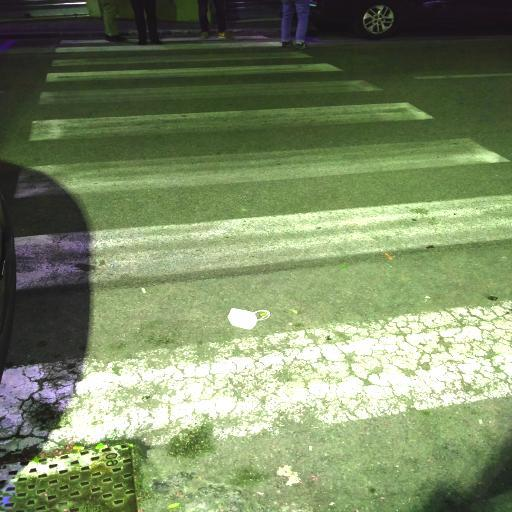crosswalk: (0, 188, 511, 494), (23, 77, 437, 145)
